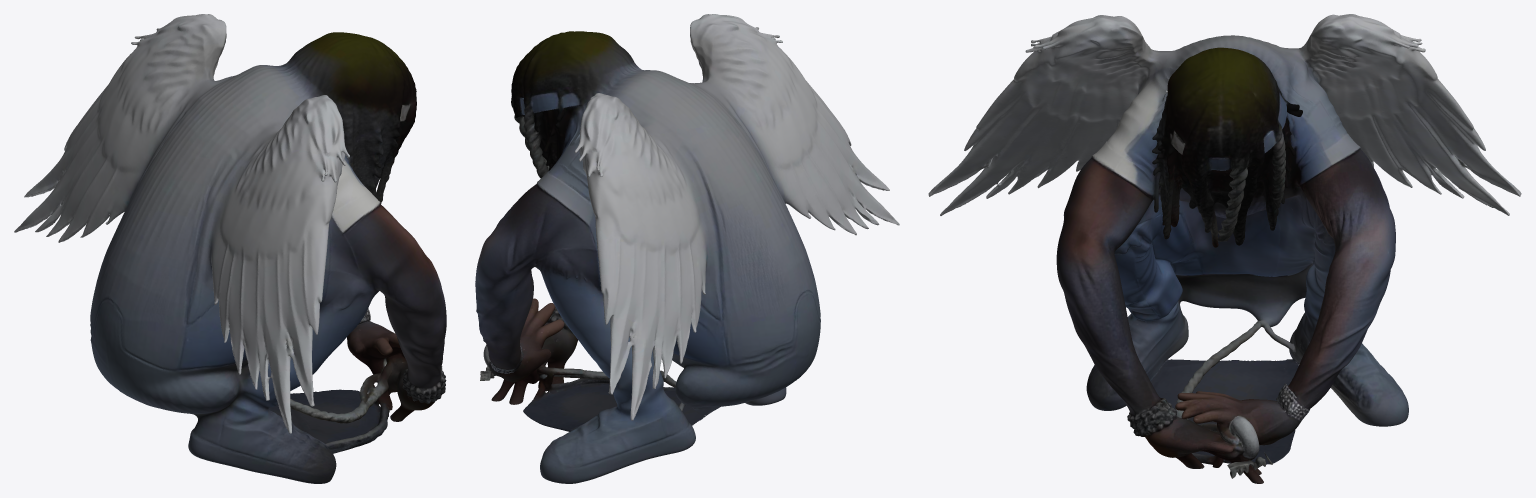
The model's file is king_von.glb.
3 views of the same model, side by side, from view 1: azimuth 30°, elevation 25°; view 2: azimuth 150°, elevation 25°; view 3: azimuth 270°, elevation 25° (orthographic). The views are drawn at different scales.
Parts seen in each view (by area): view 1: tripo_node_8d33440c-3475-44b3-a0ec-96accb23ce63; view 2: tripo_node_8d33440c-3475-44b3-a0ec-96accb23ce63; view 3: tripo_node_8d33440c-3475-44b3-a0ec-96accb23ce63.
Boxes of the visible parts, x1=… form: tripo_node_8d33440c-3475-44b3-a0ec-96accb23ce63: x1=14, y1=14, x2=446, y2=483; tripo_node_8d33440c-3475-44b3-a0ec-96accb23ce63: x1=475, y1=14, x2=899, y2=483; tripo_node_8d33440c-3475-44b3-a0ec-96accb23ce63: x1=928, y1=14, x2=1521, y2=483.
Size of the model in its own units: 0.6619 by 0.7321 by 0.9973.
Materials: 1 (1 with a texture image).
